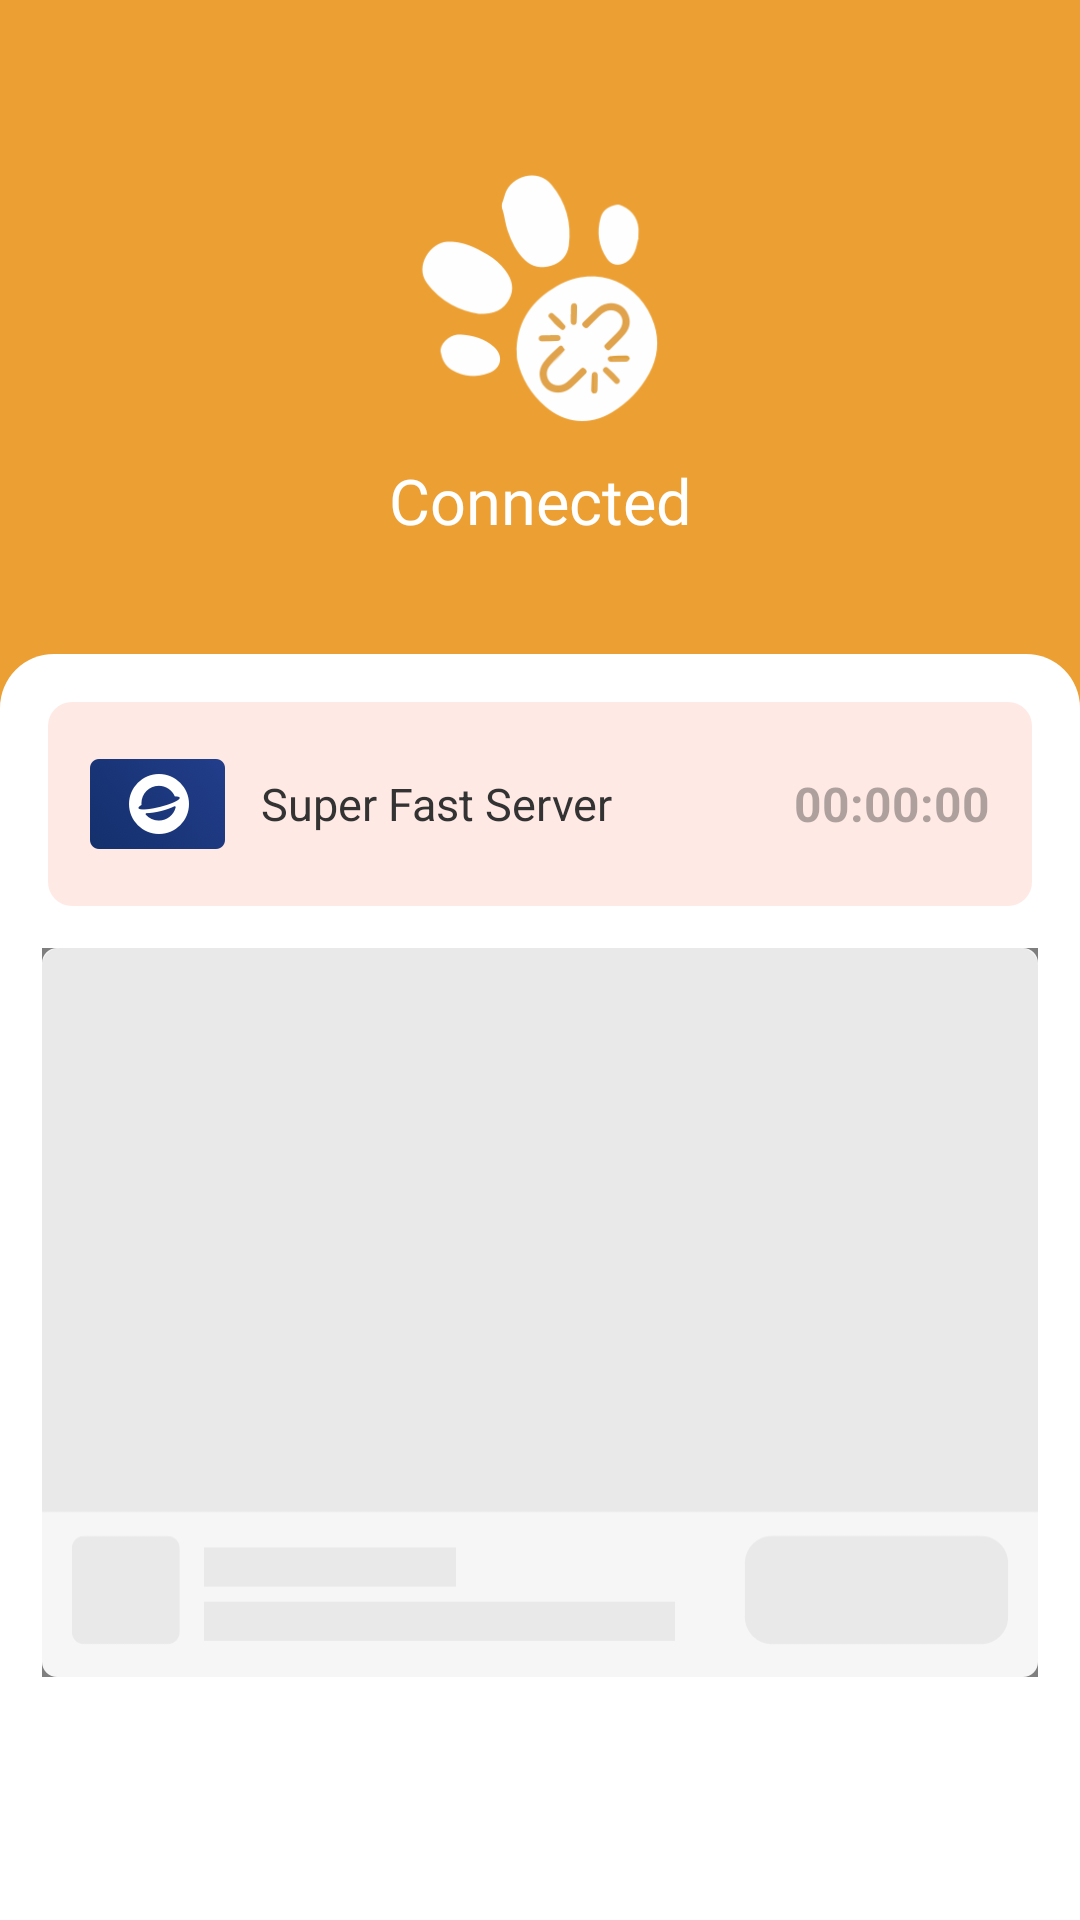

Screen size 1080×1920. Icon name, then its box in pixels as (x1, y1, x2, y2):
result status: (422, 175, 658, 421)
